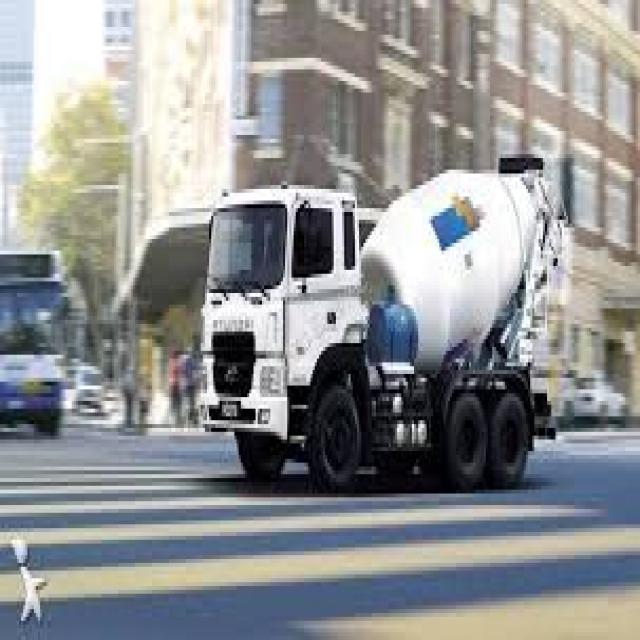Mixer Truck: (192, 143, 568, 494)
